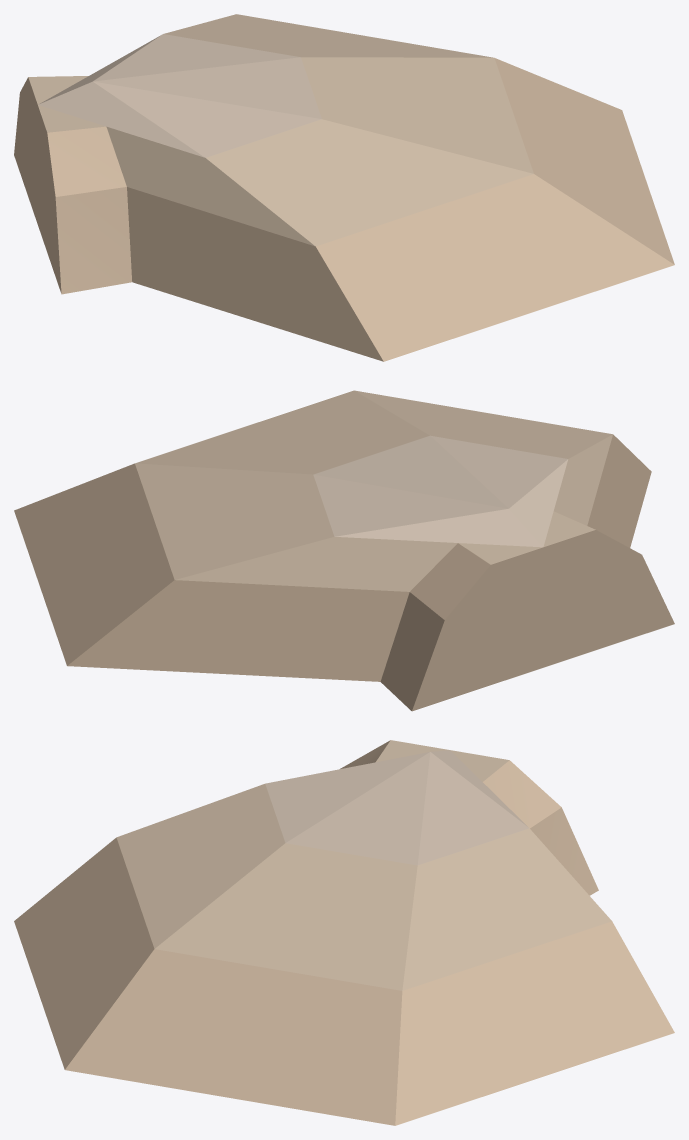
Rendered from Prop_Shell_1.glb.
3 renders of one model, top to bottom at view 1: azimuth 30°, elevation 25°; view 2: azimuth 150°, elevation 25°; view 3: azimuth 270°, elevation 25°, orthographic. The views are drawn at different scales.
Visible parts, largest first — view 1: Prop_Shell_1_Merged; view 2: Prop_Shell_1_Merged; view 3: Prop_Shell_1_Merged.
Boxes of the visible parts, box(x1,y1,x2,y2) form: Prop_Shell_1_Merged: box(14, 14, 674, 361); Prop_Shell_1_Merged: box(14, 390, 674, 711); Prop_Shell_1_Merged: box(14, 740, 674, 1125).
Size of the model in its own units: 0.5699 by 0.125 by 0.5571.
